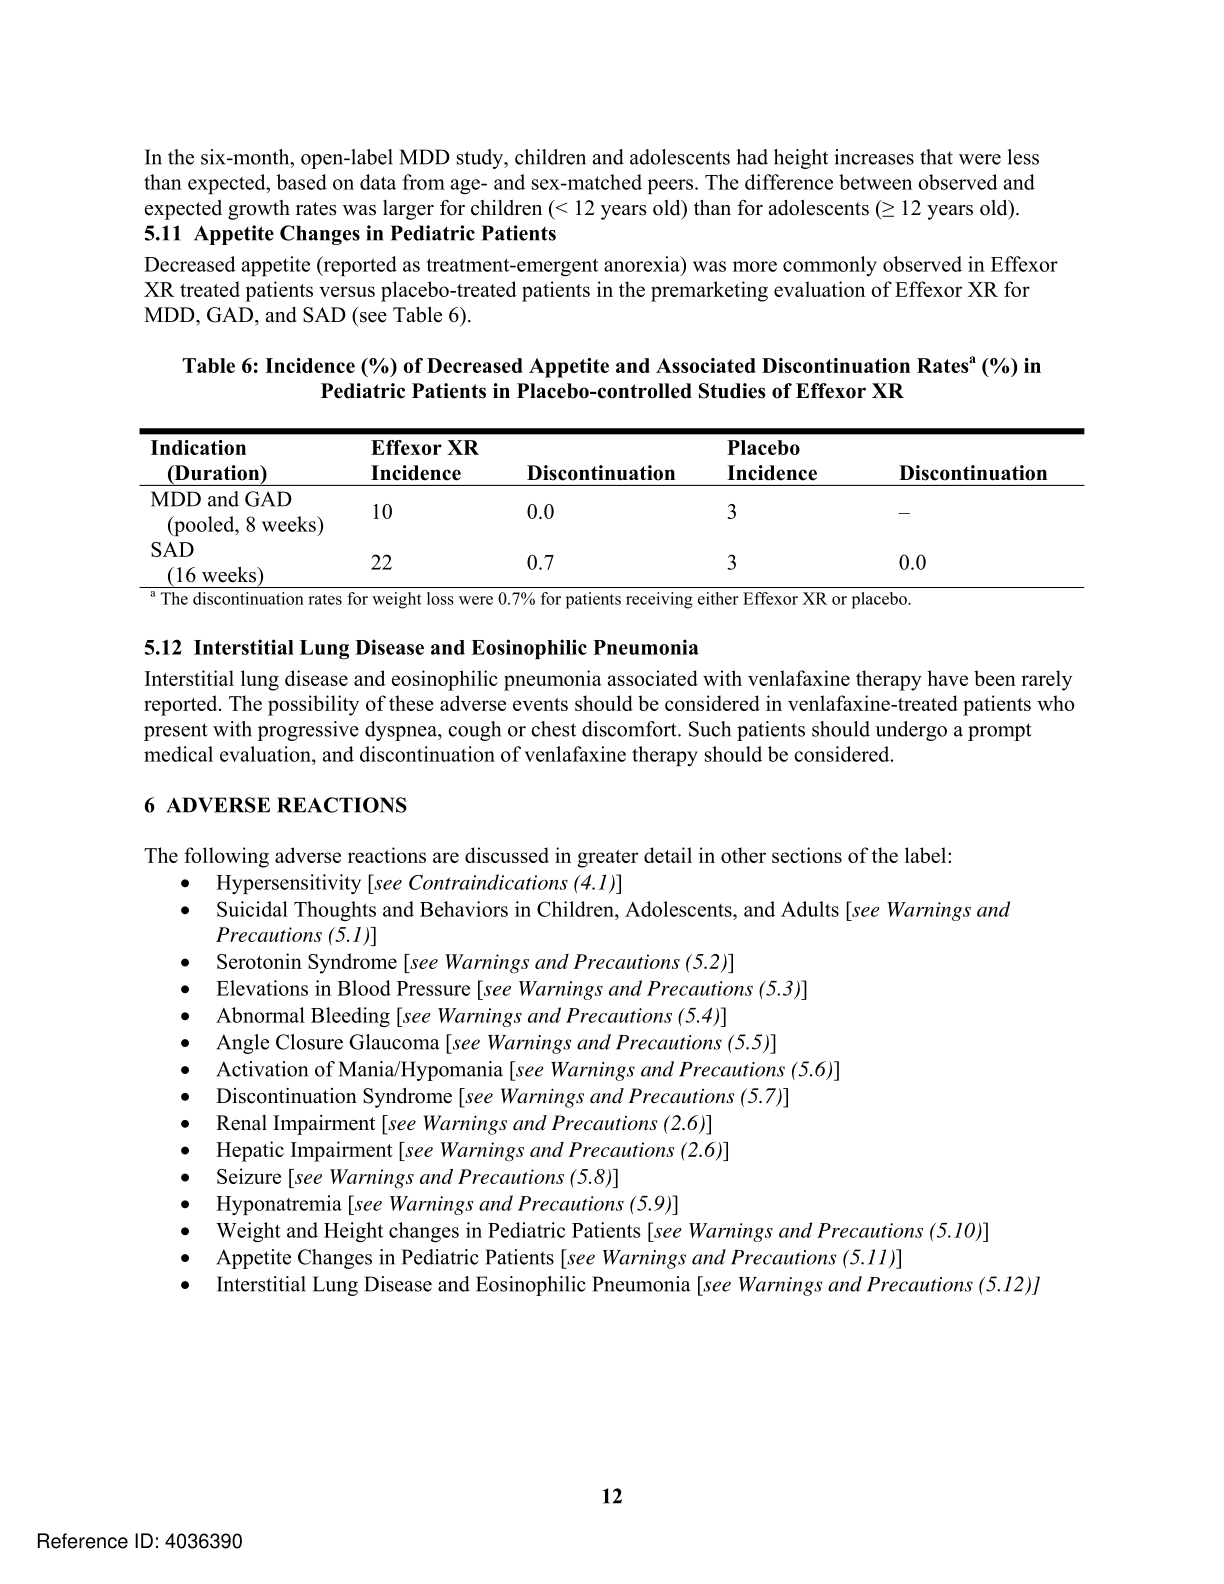partial_lined: (136, 424, 1089, 590)
